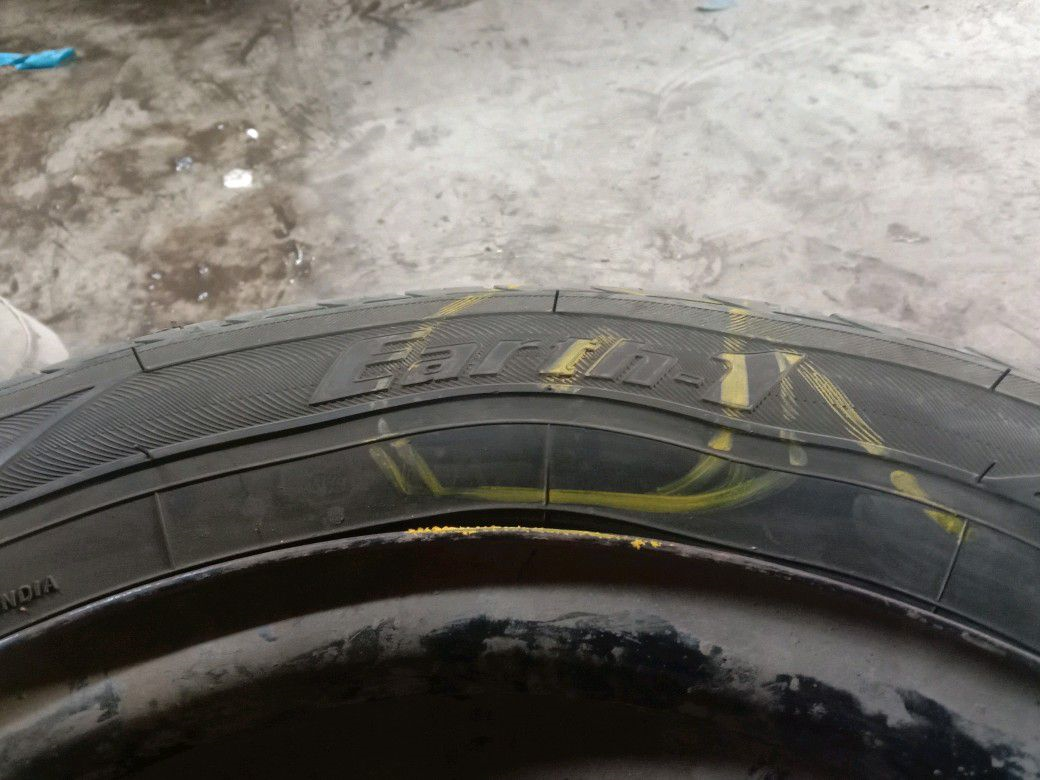CBU: (380, 291, 735, 523)
